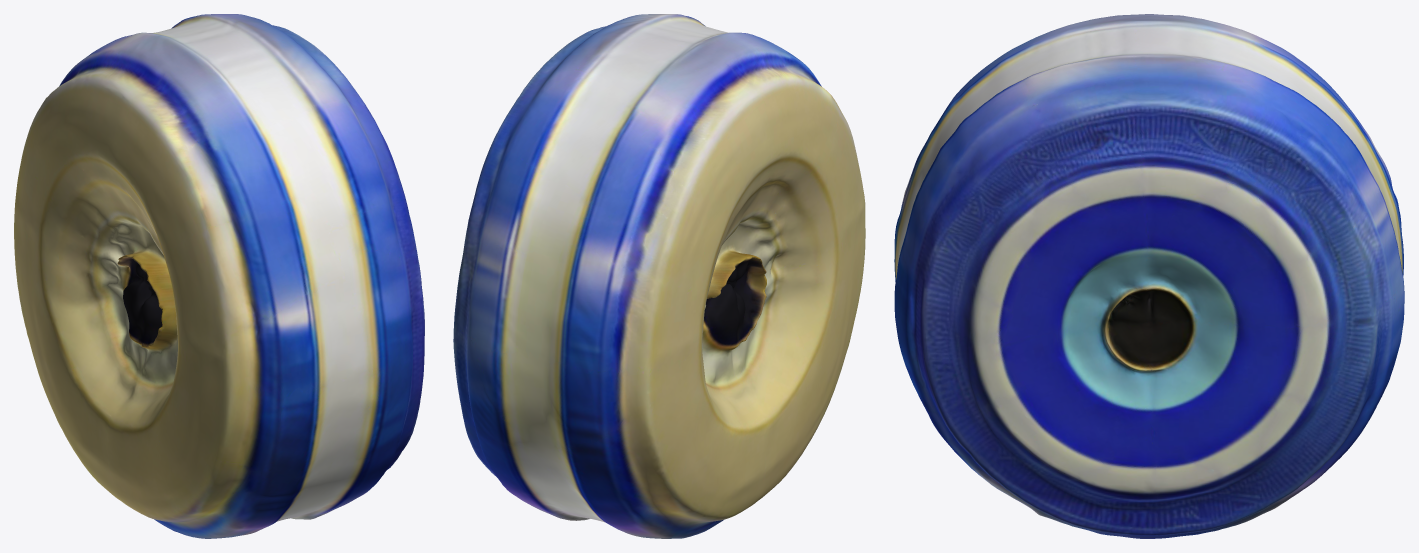
The model's file is nazar_eye_3d.glb.
3 renders of one model, left to right at view 1: azimuth 30°, elevation 25°; view 2: azimuth 150°, elevation 25°; view 3: azimuth 270°, elevation 25°, orthographic.
Parts seen in each view (by area): view 1: tripo_node_86217b95-e897-46d6-9cc7-4830475f3abf; view 2: tripo_node_86217b95-e897-46d6-9cc7-4830475f3abf; view 3: tripo_node_86217b95-e897-46d6-9cc7-4830475f3abf.
Part boxes in pixels (box(x1,y1,x2,y2)): tripo_node_86217b95-e897-46d6-9cc7-4830475f3abf: box(14, 14, 424, 538); tripo_node_86217b95-e897-46d6-9cc7-4830475f3abf: box(453, 14, 865, 538); tripo_node_86217b95-e897-46d6-9cc7-4830475f3abf: box(894, 14, 1404, 538).
Bounding box in the file's own units: 0.38 × 0.7456 × 0.7255.
1 material, 1 textured.
